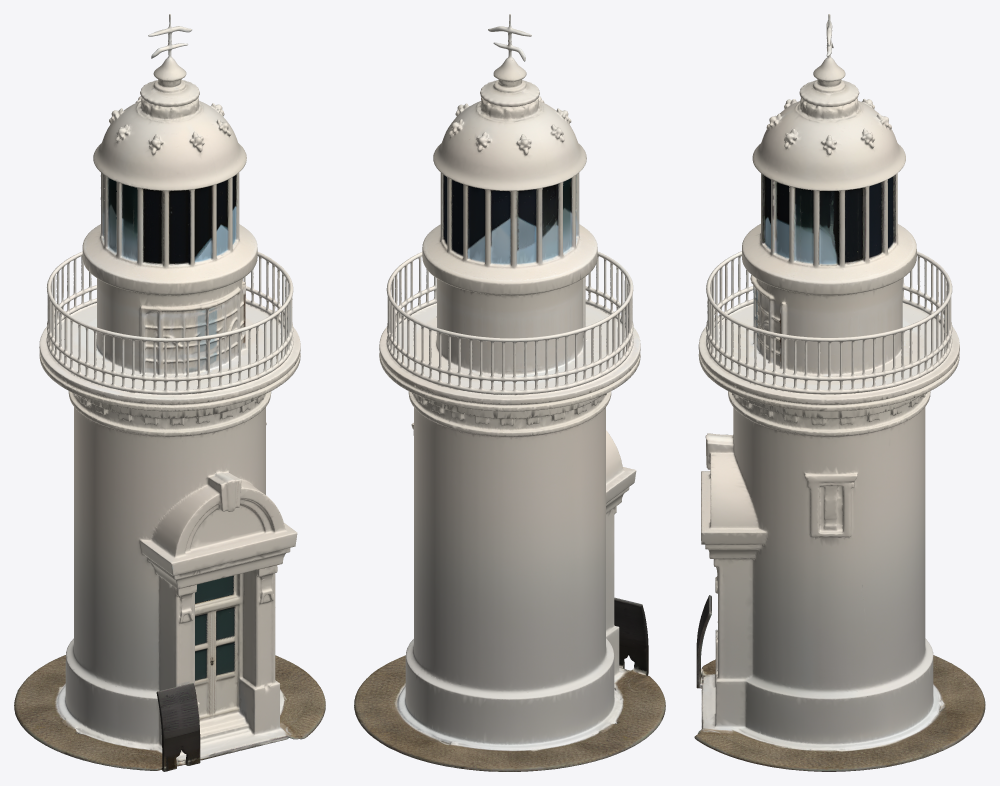
The model's file is sanji-lh.glb.
The picture shows the model from 3 angles, left to right: view 1: azimuth 30°, elevation 25°; view 2: azimuth 150°, elevation 25°; view 3: azimuth 270°, elevation 25°; orthographic projection.
Visible parts, largest first — view 1: Mesh_0; view 2: Mesh_0; view 3: Mesh_0.
Part boxes in pixels (x1,y1,x2,y2): Mesh_0: (14, 14, 325, 771); Mesh_0: (354, 14, 665, 771); Mesh_0: (694, 14, 985, 771).
Bounding box in the file's own units: 4.09 × 10 × 3.81.
Materials: 1 (1 with a texture image).
